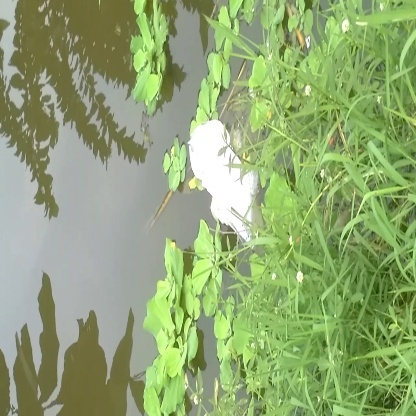plastic-bag: (188, 119, 264, 241)
